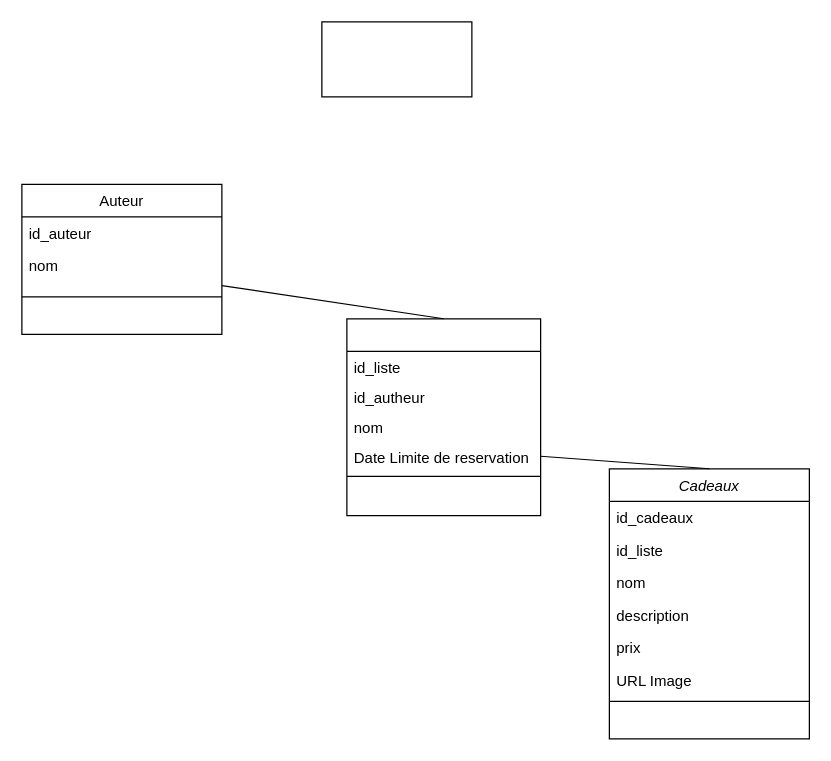
This 831x761 diagram has some shape labels left out. The shapes that lost their labels are listed below. From the top down, each one's box as (x1, y1, x2, y2) in pixels, then its label:
(321, 21, 472, 97): MLD
(346, 318, 541, 516): Liste cadeaux
